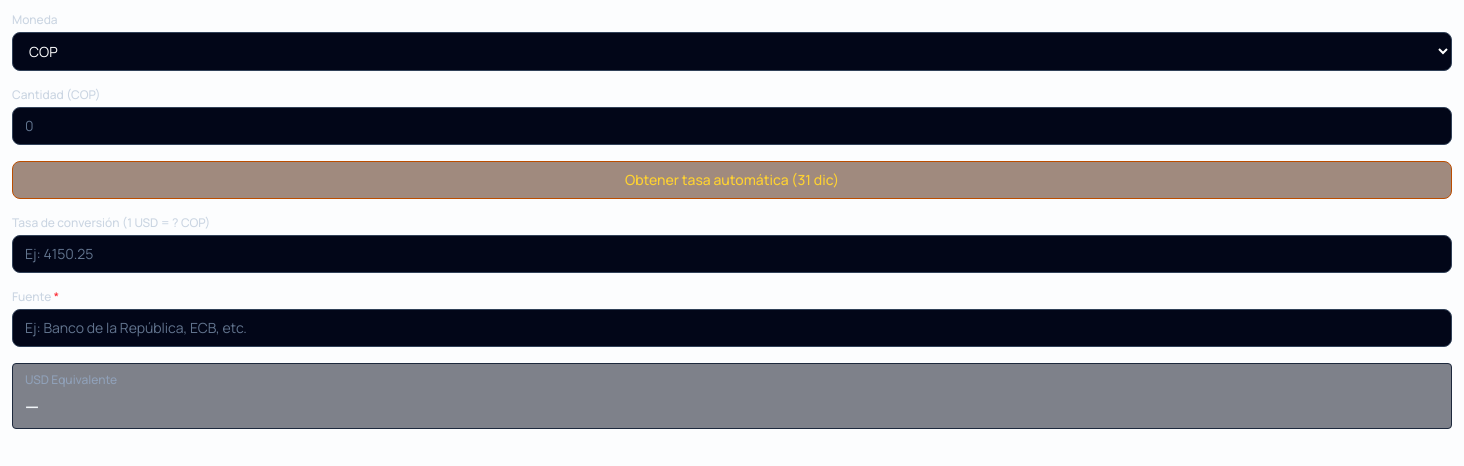
FxSubForm Component › Auto-fetch rate › shows error on fetch failure
Click the button "Obtener tasa automática (31 dic)". click: (732, 180)
box: [12, 161, 1452, 199]
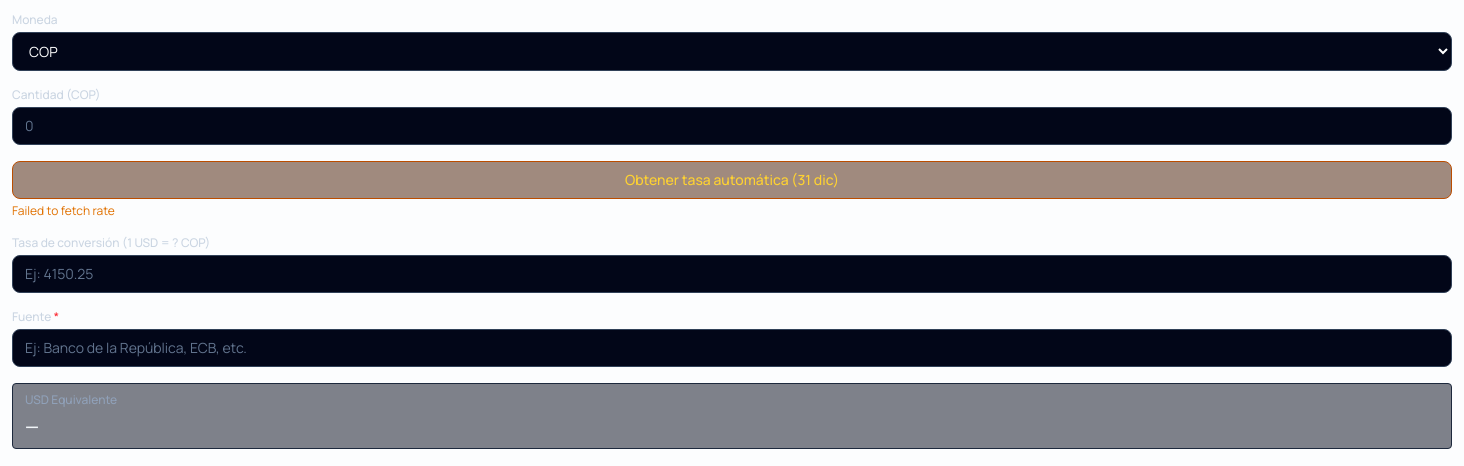
Check: the text "Failed to fetch rate" is shown, box [12, 202, 115, 219]
